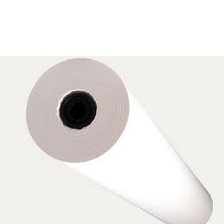tissue: (19, 56, 217, 224)
